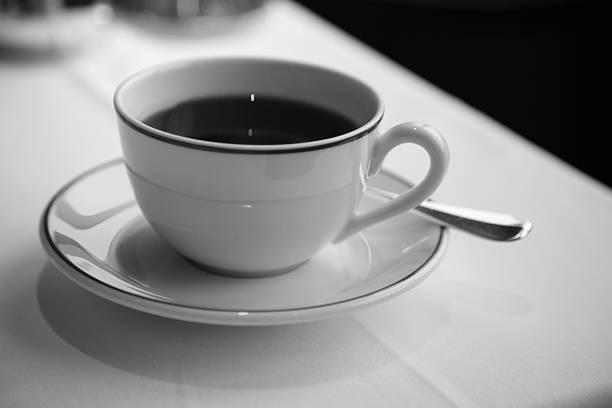cup-handle: (112, 52, 450, 278)
